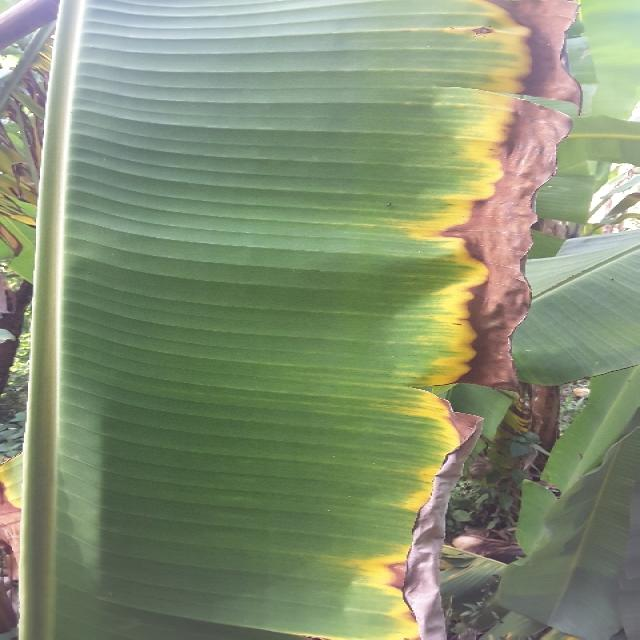Cordana: (308, 0, 538, 640)
